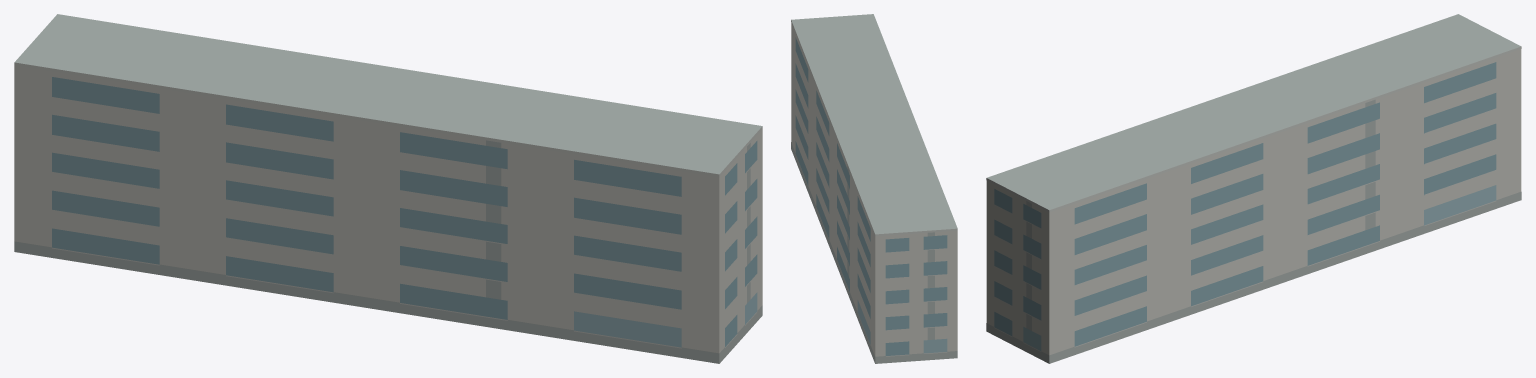
The model's file is residential-97a3d25c-eddf-4e89-8196-6723b1c1a9e7.glb.
The picture shows the model from 3 angles, left to right: view 1: azimuth 30°, elevation 25°; view 2: azimuth 150°, elevation 25°; view 3: azimuth 270°, elevation 25°; orthographic projection. The views are drawn at different scales.
Visible parts, largest first — view 1: residential-97a3d25c-eddf-4e89-8196-6723b1c1a9e7.tmp; view 2: residential-97a3d25c-eddf-4e89-8196-6723b1c1a9e7.tmp; view 3: residential-97a3d25c-eddf-4e89-8196-6723b1c1a9e7.tmp.
Boxes of the visible parts, x1,y1,x2,y2 form: residential-97a3d25c-eddf-4e89-8196-6723b1c1a9e7.tmp: (14,14,762,363); residential-97a3d25c-eddf-4e89-8196-6723b1c1a9e7.tmp: (791,14,957,363); residential-97a3d25c-eddf-4e89-8196-6723b1c1a9e7.tmp: (986,14,1521,363).
Size of the model in its own units: 41.78 by 15.25 by 48.12.
